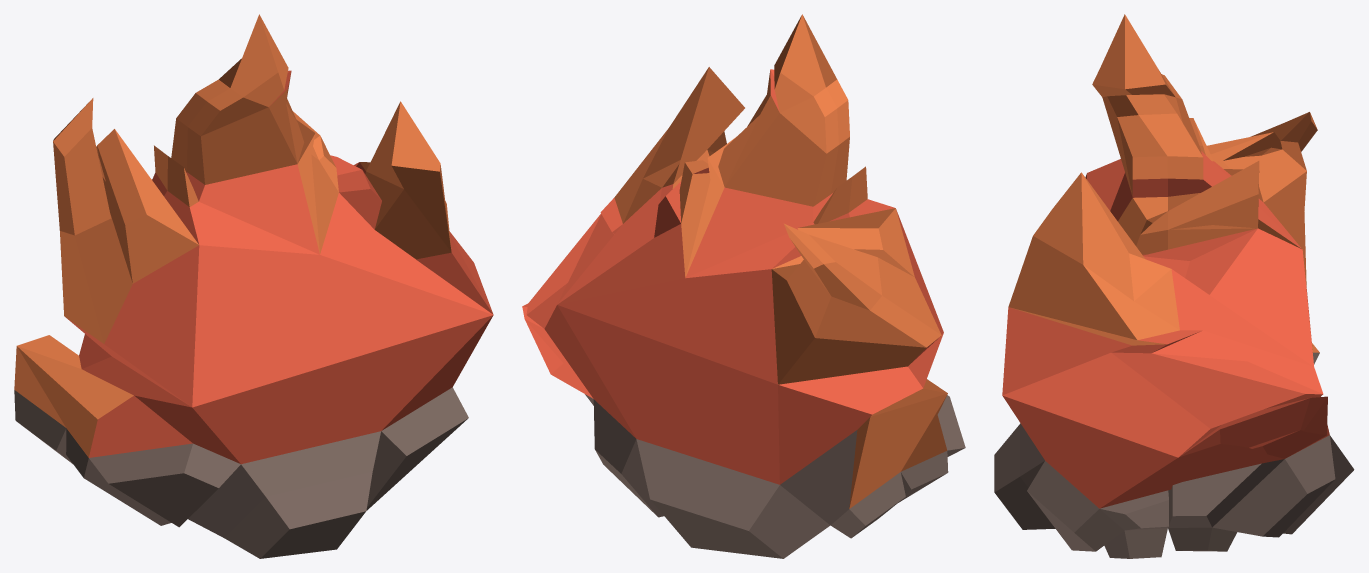
The model's file is campfire.fbx.
The picture shows the model from 3 angles, left to right: view 1: azimuth 30°, elevation 25°; view 2: azimuth 150°, elevation 25°; view 3: azimuth 270°, elevation 25°; orthographic projection. The views are drawn at different scales.
Parts seen in each view (by area): view 1: Cube; view 2: Cube; view 3: Cube.
Part boxes in pixels (x1=…): Cube: x1=14, y1=14, x2=493, y2=558; Cube: x1=522, y1=14, x2=965, y2=558; Cube: x1=994, y1=14, x2=1354, y2=558.
Bounding box in the file's own units: 9.59 × 10.56 × 6.83.
Materials: 1 (1 with a texture image).
